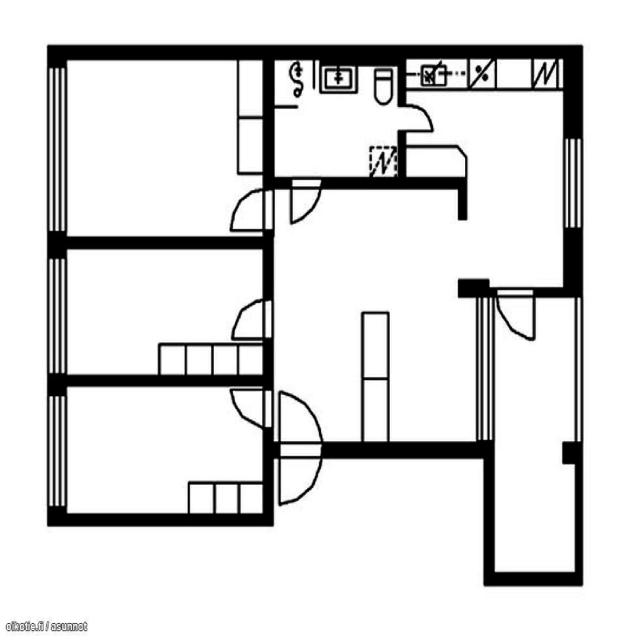door: (272, 388, 328, 502), (275, 448, 325, 506), (493, 286, 538, 345), (282, 175, 328, 230), (226, 184, 274, 232), (230, 295, 270, 342), (398, 93, 437, 137)
window: (43, 65, 72, 239), (42, 248, 72, 381), (42, 386, 71, 516), (561, 128, 587, 235)
zone: (273, 191, 484, 450), (57, 54, 259, 242), (403, 82, 573, 285), (57, 380, 270, 521), (55, 244, 270, 378), (488, 290, 579, 582), (268, 53, 402, 183), (402, 54, 566, 91)
